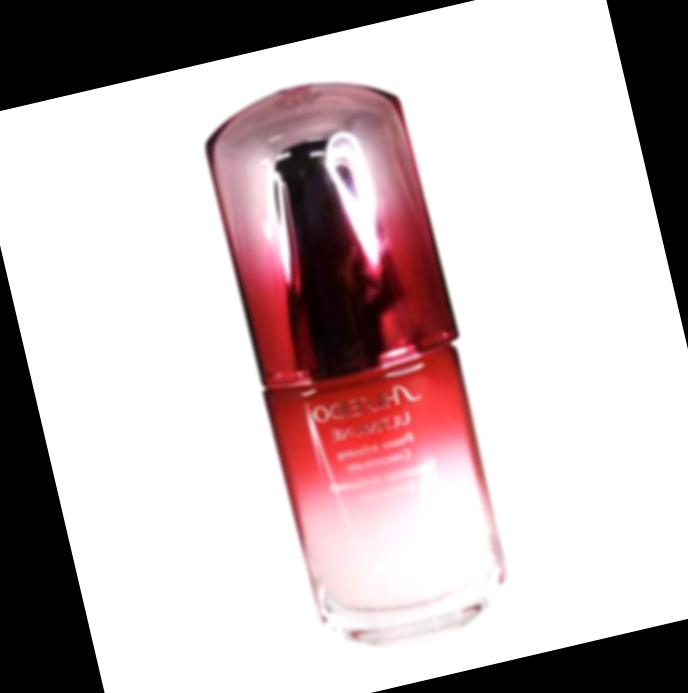cosmetic: (190, 57, 525, 660)
